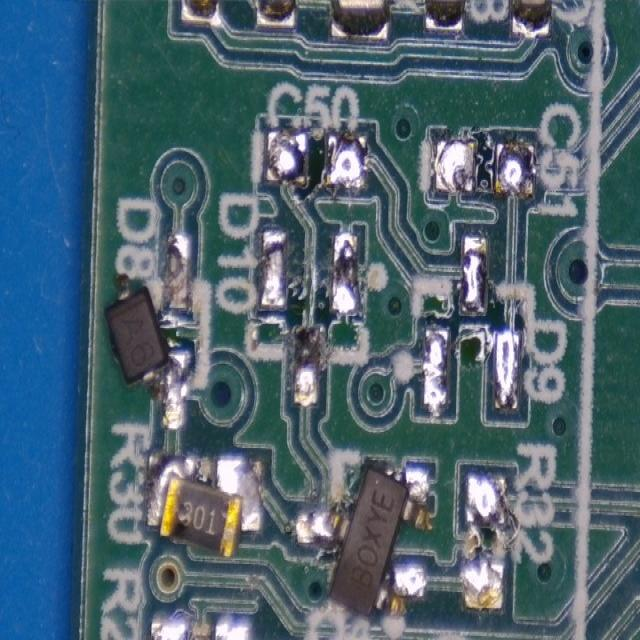Incorrect_installation: (296, 466, 430, 619), (104, 274, 188, 431), (147, 454, 263, 559)
